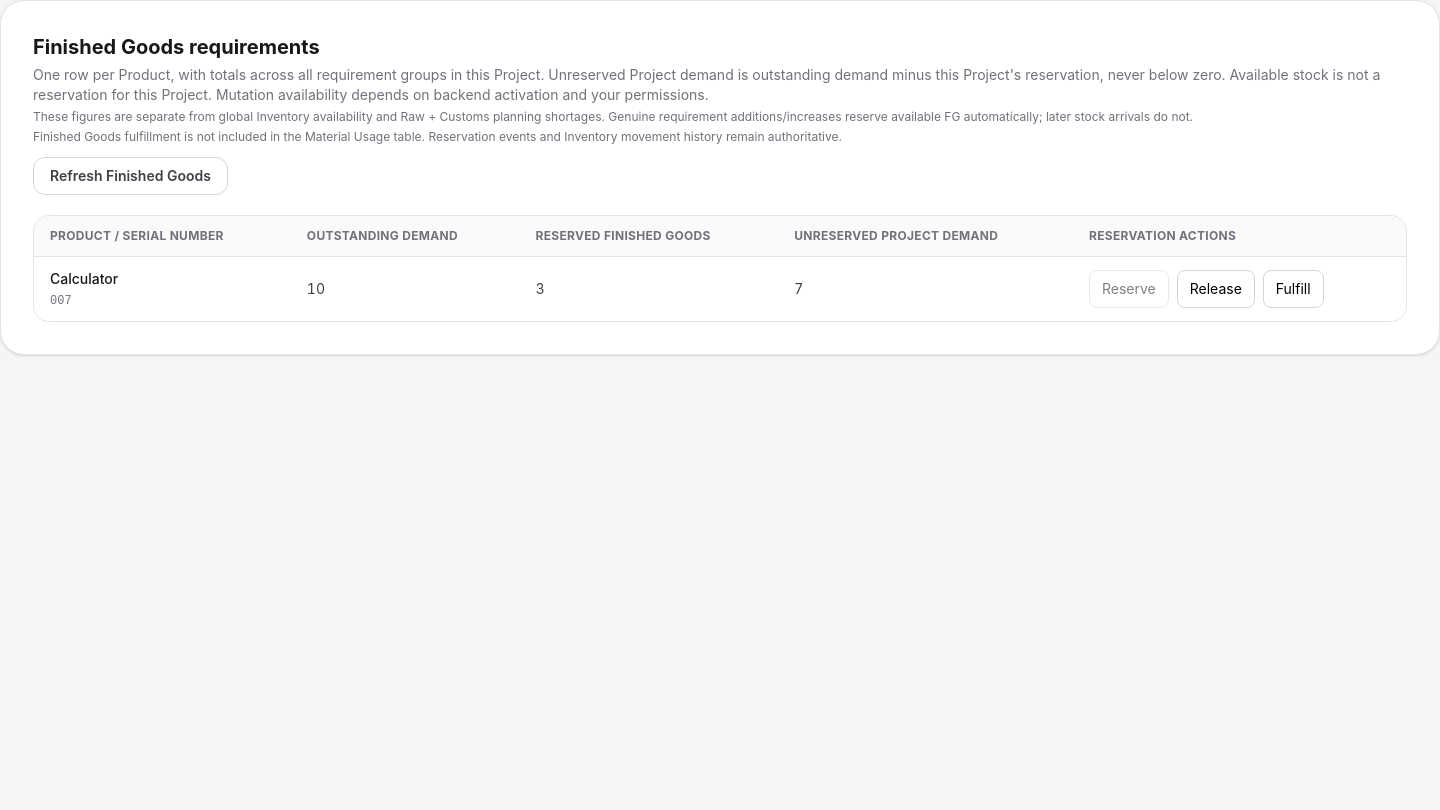
Project Finished Goods mutation UI › allows Fulfill/Release when global availability is zero, but not Reserve
Check: the button with aria-label "Reserve Calculator" is disabled, box [1089,270,1169,308]
Click the button with aria-label "Fulfill Calculator".
click(1293, 289)  # box [1263,270,1324,308]
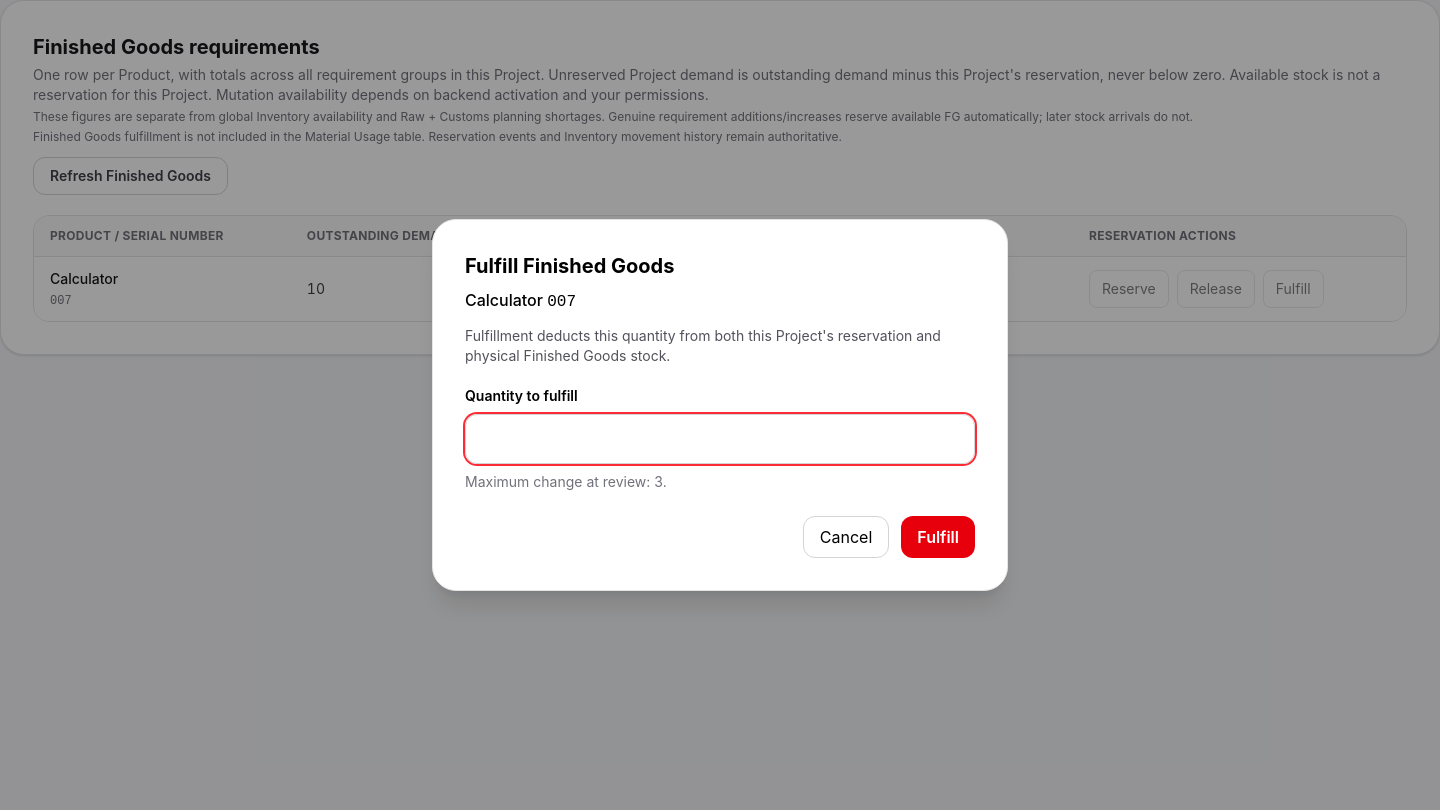
Check: the button "Fulfill" is enabled, box [901,516,975,558]
Check: the text "both this Project's reservation and physical" is shown, box [465,327,941,364]
Check: the text "Maximum change at review: 3." is shown, box [465,473,667,490]
Type "3" into the field labelled "Quantity to fulfill".
click(720, 439); type("3")  # box [465,414,975,464]
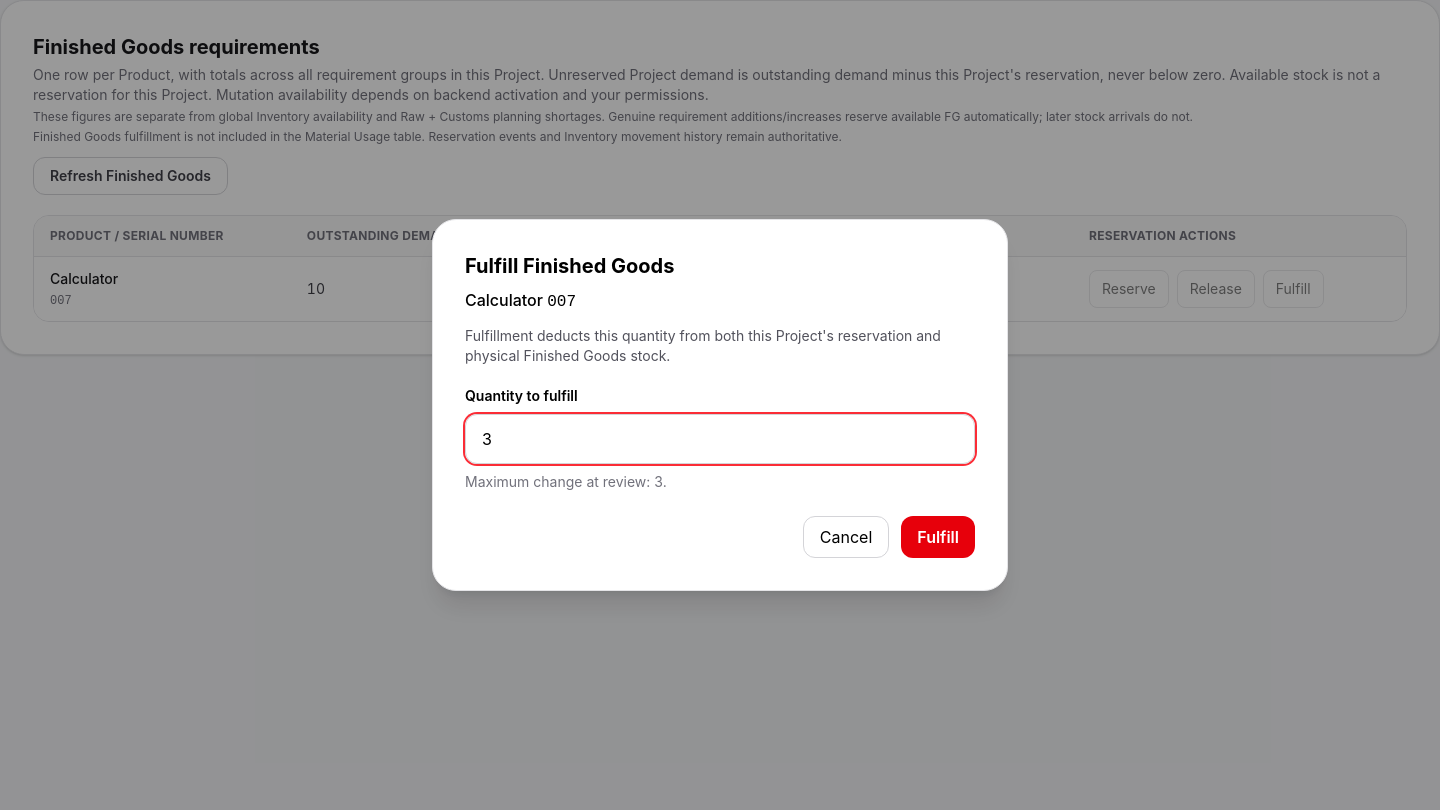
Click the button "Fulfill".
click(938, 537)  # box [901,516,975,558]
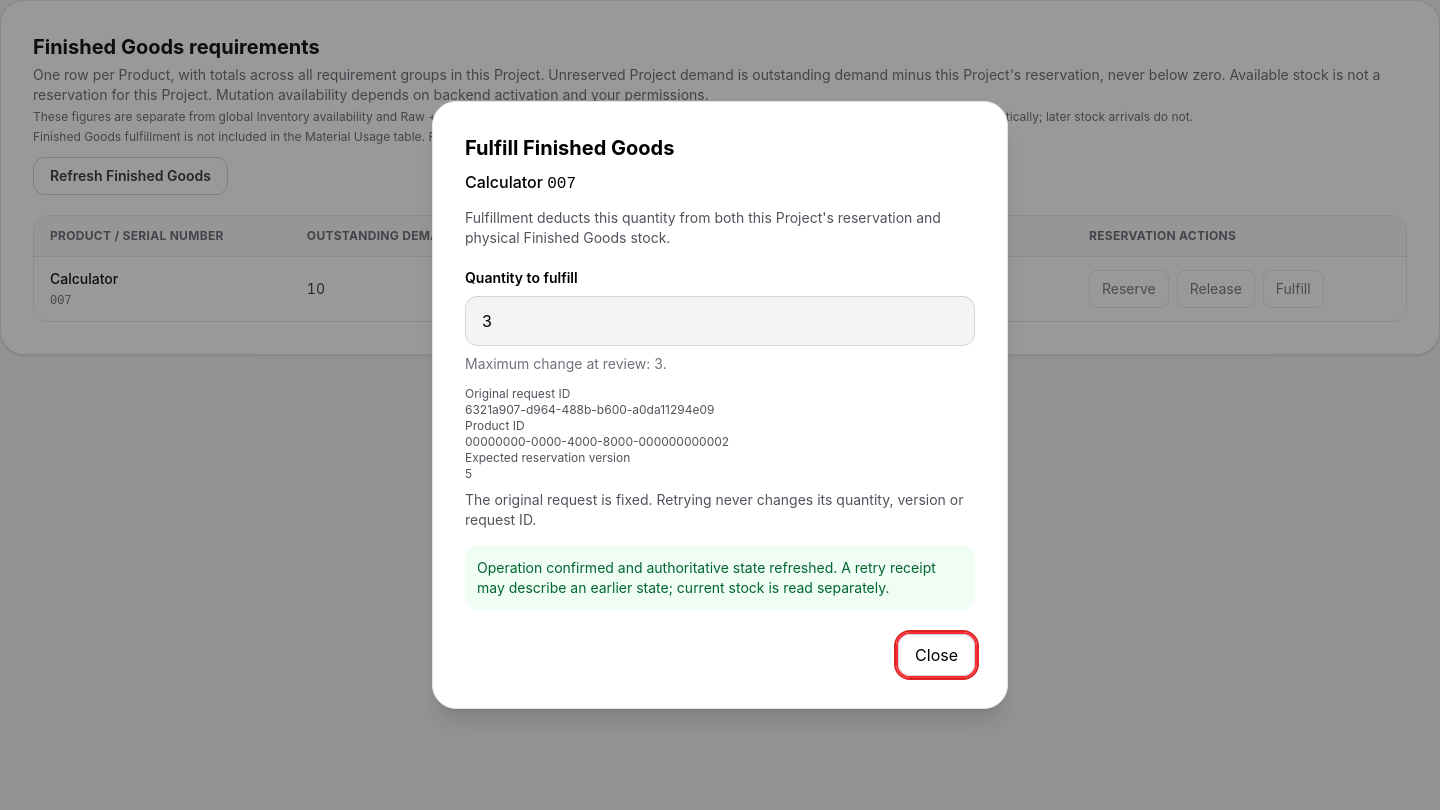
Check: the text "Operation confirmed" is shown, box [477,559,936,596]
